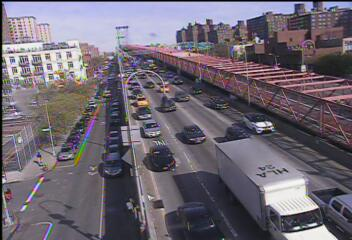neg: (150, 139, 167, 161), (184, 121, 197, 139)
pos: (30, 148, 43, 166)
